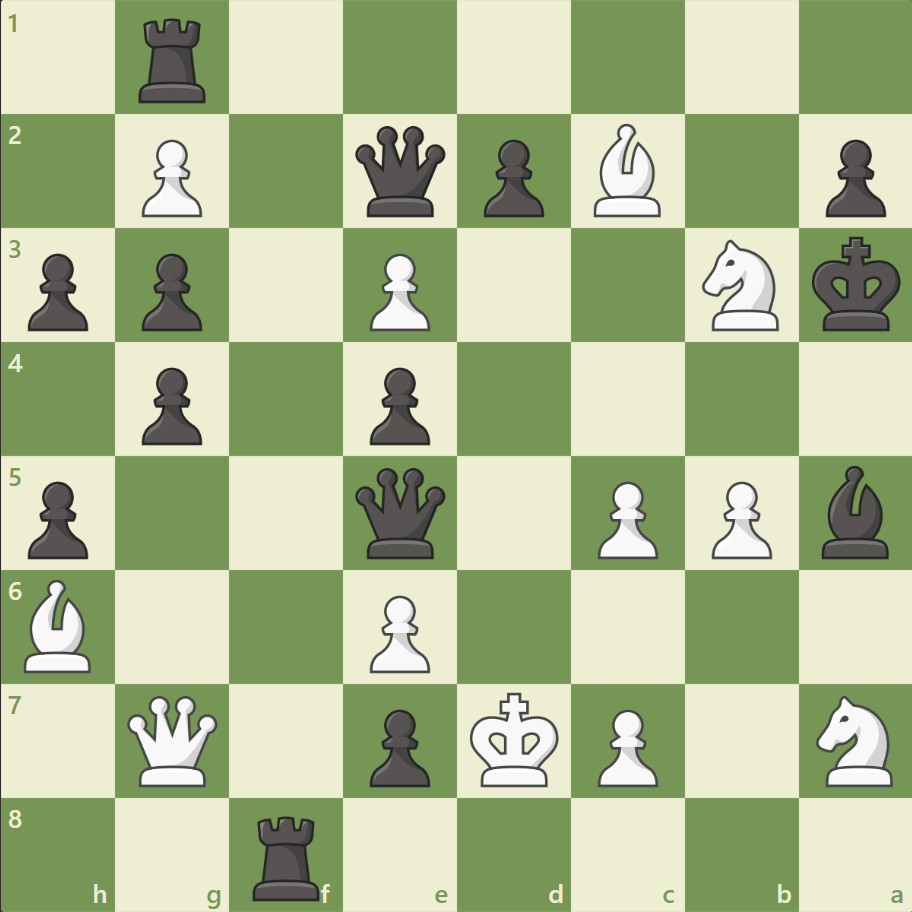B: (17, 574, 101, 676), (585, 120, 669, 222)
K: (465, 685, 565, 793)
N: (806, 688, 903, 791), (692, 234, 789, 337)
P: (701, 473, 776, 564), (133, 132, 208, 223), (588, 700, 662, 791), (361, 586, 435, 677), (588, 473, 662, 564), (361, 246, 435, 337)
Q: (124, 690, 223, 789)
b: (812, 460, 896, 563)
k: (806, 231, 906, 339)
p: (20, 473, 95, 564), (133, 359, 208, 450), (133, 246, 208, 337), (20, 246, 95, 337), (474, 132, 549, 223), (361, 700, 435, 791), (361, 359, 435, 450), (815, 132, 889, 223)
q: (351, 122, 450, 222), (351, 463, 450, 562)
r: (246, 806, 329, 904), (133, 12, 215, 109)
